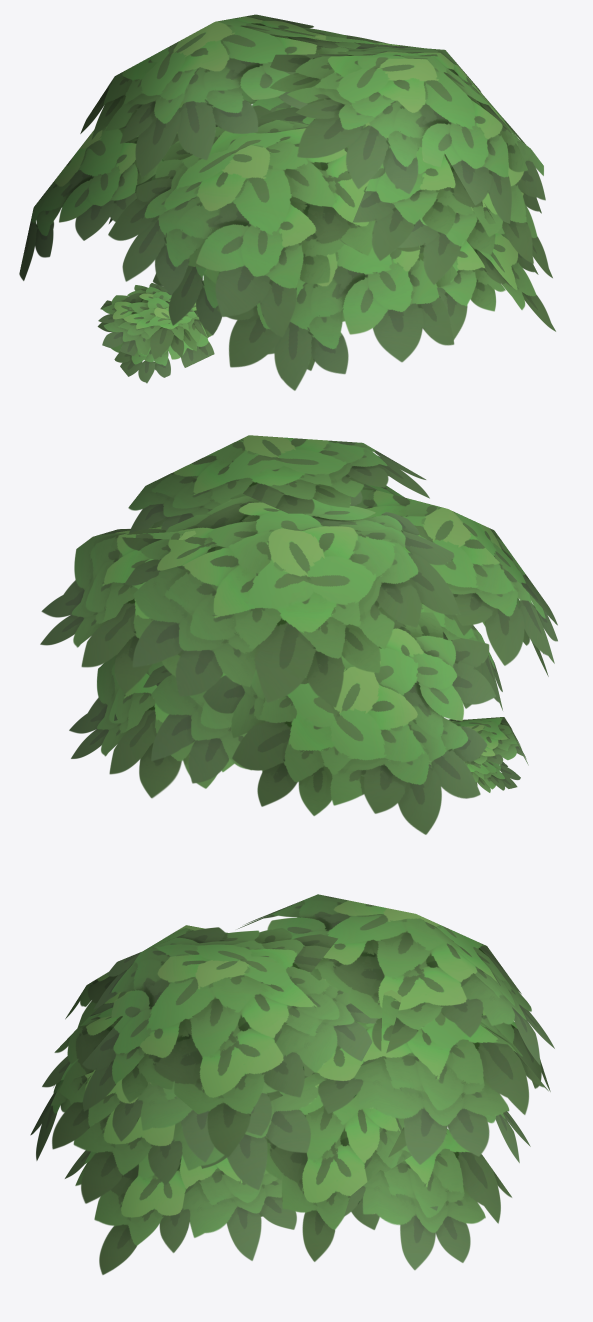
File: Bush1.glb
The picture shows the model from 3 angles, top to bottom: view 1: azimuth 30°, elevation 25°; view 2: azimuth 150°, elevation 25°; view 3: azimuth 270°, elevation 25°; orthographic projection. The views are drawn at different scales.
Visible parts, largest first — view 1: Bush_Large; view 2: Bush_Large; view 3: Bush_Large.
Boxes of the visible parts, bbox=[...] form: Bush_Large: bbox=[19, 14, 555, 390]; Bush_Large: bbox=[40, 435, 557, 834]; Bush_Large: bbox=[30, 894, 554, 1274].
Size of the model in its own units: 2.07 by 1.13 by 2.07.
Materials: 1 (1 with a texture image).
